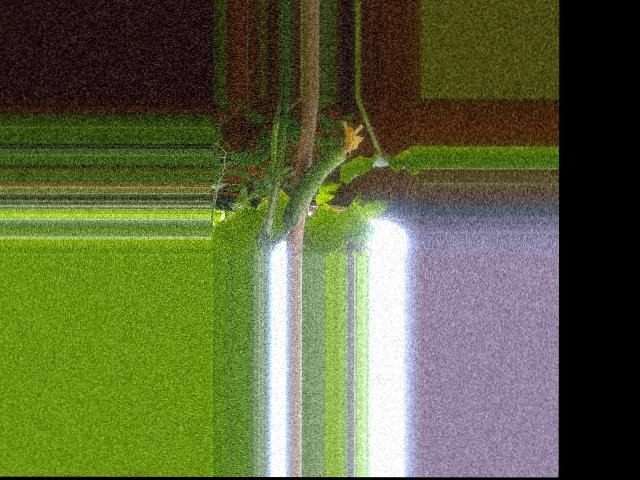cucumber: (283, 120, 364, 226)
